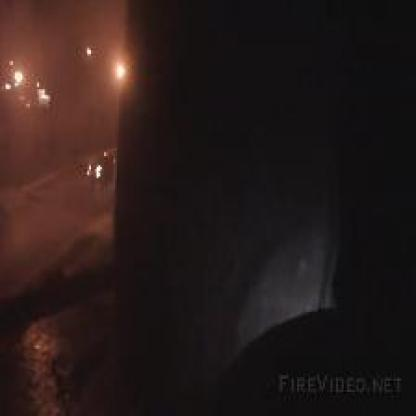other: (0, 51, 71, 124), (74, 145, 104, 188), (108, 57, 134, 80)
